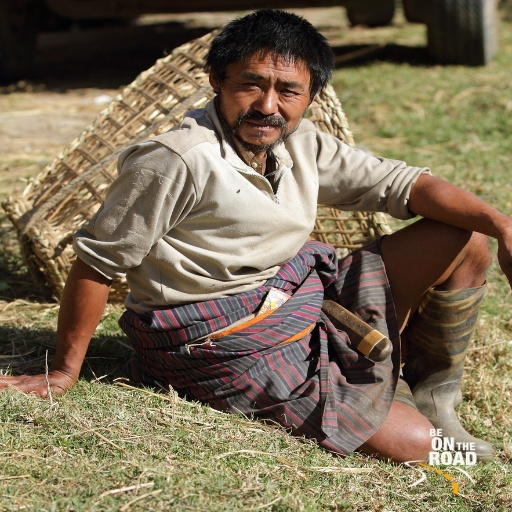hand: (0, 368, 67, 398), (496, 219, 511, 289)
